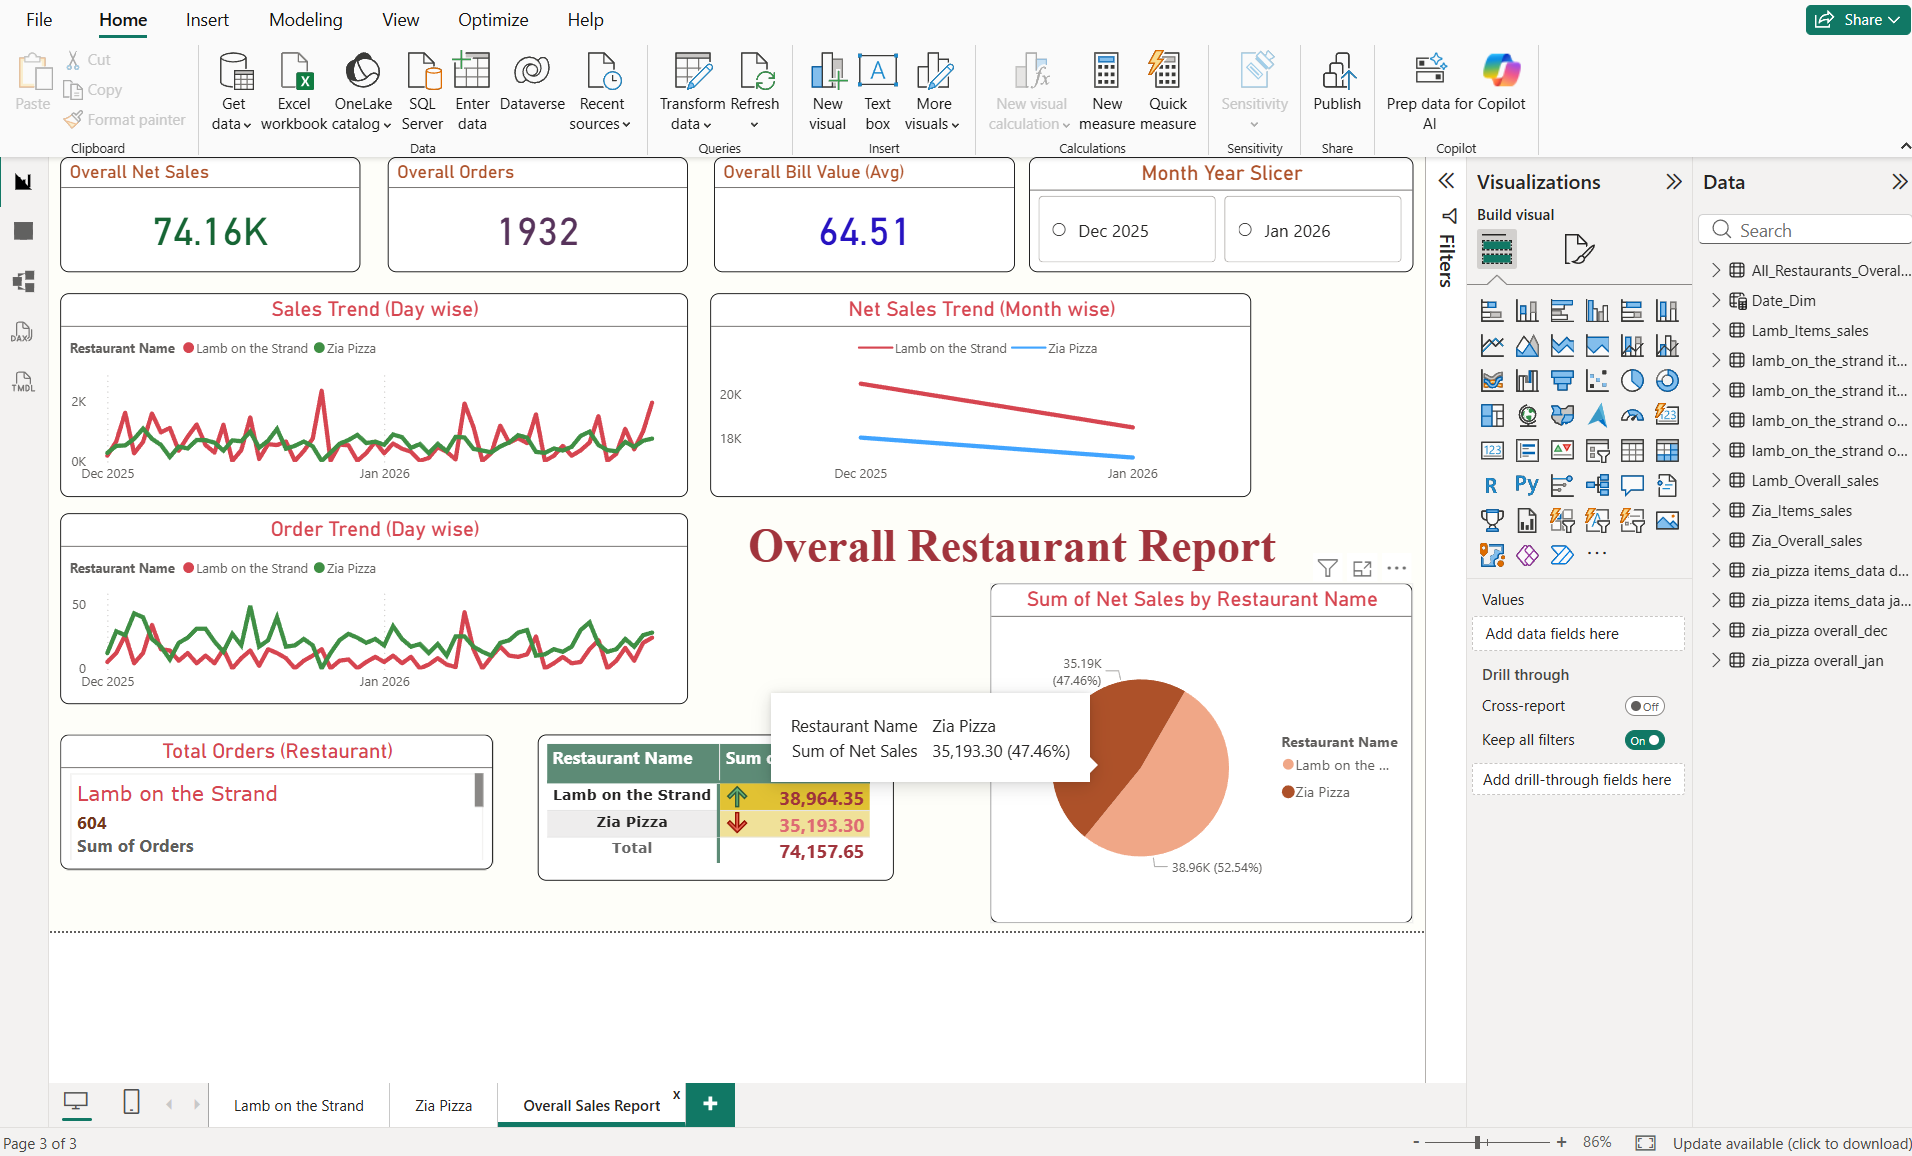

Layout of this report page (visuals, bound fields, positions):
{"tool":"powerbi","page":{"name":"Overall Sales Report","canvas":[1280,720],"ordinal":2},"visuals":[{"type":"textbox","box":[645.4,331.4,533.7,65.1],"z":0},{"type":"card","title":"Overall Net Sales","fields":{"Values":["All_Restaurants_Overall_Sales.Overall  Net Sales"]},"box":[10.5,0,279.1,107],"z":1000},{"type":"card","title":"Overall Orders","fields":{"Values":["All_Restaurants_Overall_Sales.Overall Orders"]},"box":[315.1,0,279.1,107],"z":2000},{"type":"lineChart","title":"Sales Trend (Day wise)","fields":{"Category":["All_Restaurants_Overall_Sales.Date"],"Y":["Sum(All_Restaurants_Overall_Sales.Net Sales)"],"Series":["All_Restaurants_Overall_Sales.Restaurant Name"]},"box":[10.5,126.7,583.7,189.5],"z":3000},{"type":"card","title":"Overall Bill Value (Avg)","fields":{"Values":["All_Restaurants_Overall_Sales.Overall Avg Bill"]},"box":[618.6,0,280.2,107],"z":4000},{"type":"advancedSlicerVisual","title":"Month Year Slicer","fields":{"Values":["Date_Dim.Month Year"],"Label":["Min(Date_Dim.Month Name)"]},"box":[911.2,0,357.5,107.5],"z":5000},{"type":"lineChart","title":"Net Sales Trend (Month wise)","fields":{"Category":["Date_Dim.Month Year"],"Y":["Sum(All_Restaurants_Overall_Sales.Net Sales)"],"Series":["All_Restaurants_Overall_Sales.Restaurant Name"]},"box":[615.1,126.7,503.5,189.5],"z":6000},{"type":"multiRowCard","title":"Total Orders (Restaurant)","fields":{"Values":["All_Restaurants_Overall_Sales.Restaurant Name","Sum(All_Restaurants_Overall_Sales.Orders)"]},"box":[10.5,537.2,402.3,125.6],"z":7000},{"type":"lineChart","title":"Order Trend (Day wise)","fields":{"Category":["All_Restaurants_Overall_Sales.Date"],"Series":["All_Restaurants_Overall_Sales.Restaurant Name"],"Y":["Sum(All_Restaurants_Overall_Sales.Orders)"]},"box":[10.5,331.4,583.7,177.9],"z":8000},{"type":"pieChart","fields":{"Category":["All_Restaurants_Overall_Sales.Restaurant Name"],"Y":["Sum(All_Restaurants_Overall_Sales.Net Sales)"]},"box":[875.6,396.5,393,316.3],"z":9000},{"type":"pivotTable","fields":{"Rows":["All_Restaurants_Overall_Sales.Restaurant Name"],"Values":["Sum(All_Restaurants_Overall_Sales.Net Sales)"]},"box":[454.7,537.2,331.4,136],"z":10000}]}

Visuals, with their boxes on the page's 1280x720 design canvas (x1, y1, x2, y2). These are canvas units, not pixel positions in the 1912x1156 screenshot, which may show the page scaled, cropped or inside an application window:
textbox: x1=645, y1=331, x2=1179, y2=396
"Overall Net Sales" card: x1=10, y1=0, x2=290, y2=107
"Overall Orders" card: x1=315, y1=0, x2=594, y2=107
"Sales Trend (Day wise)" lineChart: x1=10, y1=127, x2=594, y2=316
"Overall Bill Value (Avg)" card: x1=619, y1=0, x2=899, y2=107
"Month Year Slicer" advancedSlicerVisual: x1=911, y1=0, x2=1269, y2=108
"Net Sales Trend (Month wise)" lineChart: x1=615, y1=127, x2=1119, y2=316
"Total Orders (Restaurant)" multiRowCard: x1=10, y1=537, x2=413, y2=663
"Order Trend (Day wise)" lineChart: x1=10, y1=331, x2=594, y2=509
pieChart - All_Restaurants_Overall_Sales.Restaurant Name x Sum(All_Restaurants_Overall_Sales.Net Sales): x1=876, y1=396, x2=1269, y2=713
pivotTable - All_Restaurants_Overall_Sales.Restaurant Name x Sum(All_Restaurants_Overall_Sales.Net Sales): x1=455, y1=537, x2=786, y2=673
